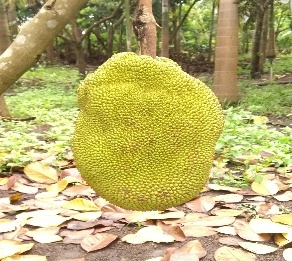Mit: (76, 52, 225, 211)
